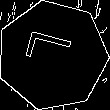L_E: (24, 34, 82, 77)
